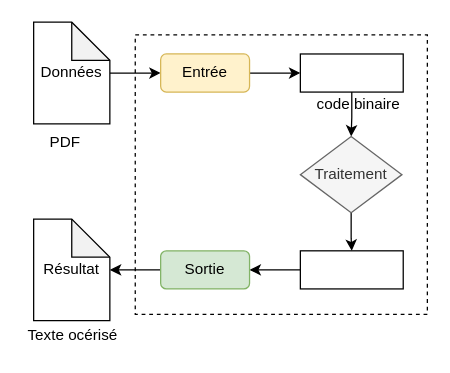
This 450x373 diagram has some shape labels left out. Here are the shapes that lost their labels. From the top down, the box of each, then its label:
(299, 53, 403, 92): Données 10011001
(299, 250, 403, 289): Résultats 01100101
